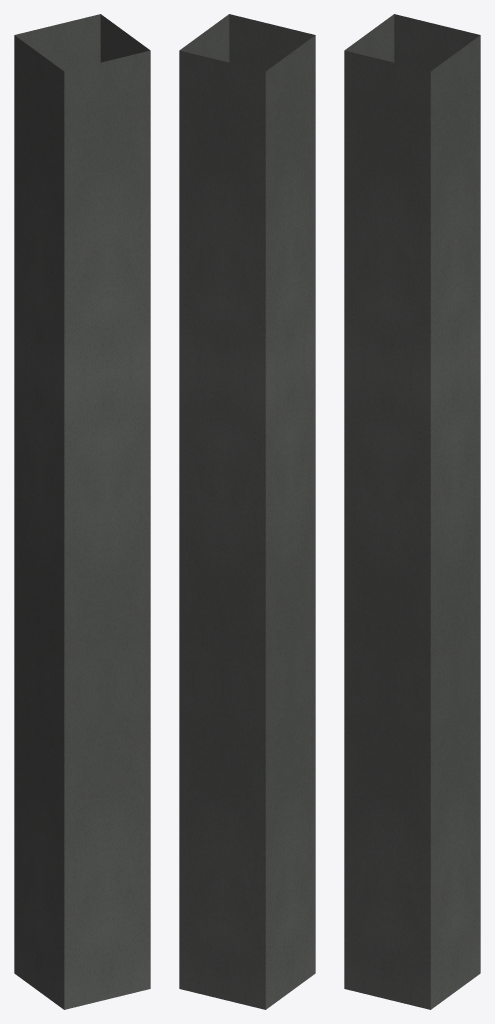
The model's file is betonsaeule4.fbx.
3 views of the same model, side by side, from view 1: azimuth 30°, elevation 25°; view 2: azimuth 150°, elevation 25°; view 3: azimuth 330°, elevation 25° (orthographic).
Visible parts, largest first — view 1: betonsaeule4; view 2: betonsaeule4; view 3: betonsaeule4.
Boxes of the visible parts, x1,y1,x2,y2 form: betonsaeule4: [14, 14, 150, 1009]; betonsaeule4: [179, 14, 315, 1009]; betonsaeule4: [344, 14, 480, 1009].
Size of the model in its own units: 200 by 2077 by 200.
